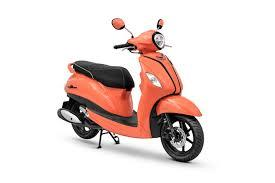motorcycle: (50, 10, 213, 169)
